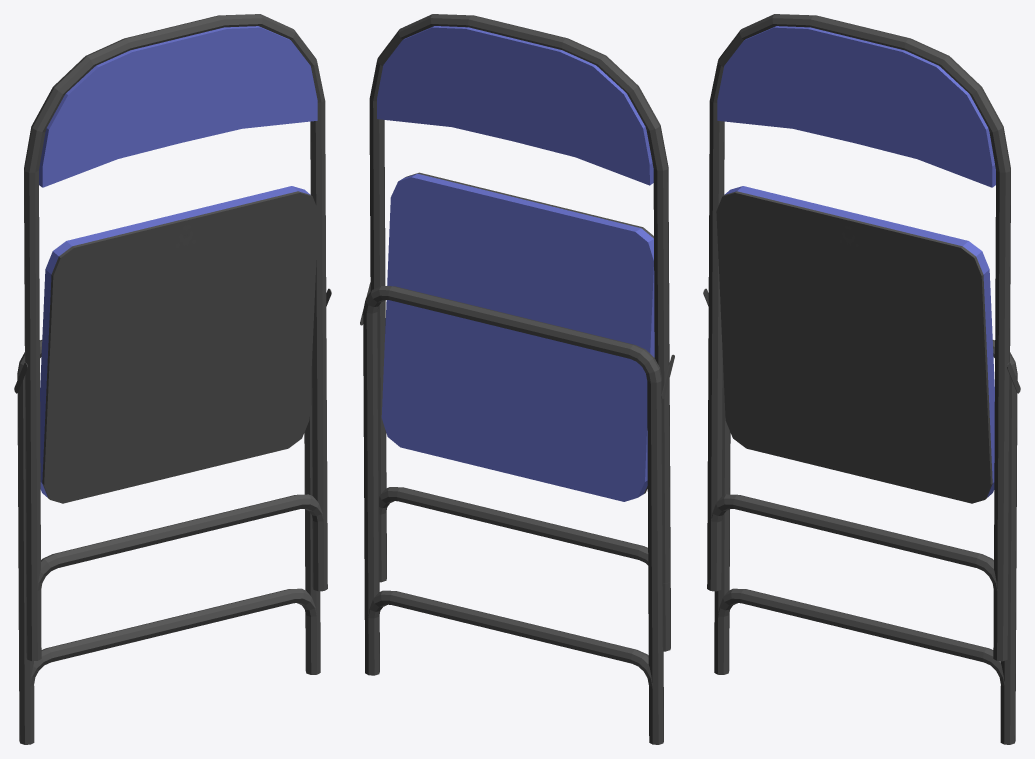
File: chair_0402.fbx
3 renders of one model, left to right at view 1: azimuth 30°, elevation 25°; view 2: azimuth 150°, elevation 25°; view 3: azimuth 330°, elevation 25°, orthographic.
Parts seen in each view (by area): view 1: Object001; view 2: Object001; view 3: Object001.
Boxes of the visible parts, bbox=[...] form: Object001: bbox=[14, 14, 331, 744]; Object001: bbox=[360, 14, 674, 744]; Object001: bbox=[703, 14, 1020, 744].
Size of the model in its own units: 66.36 by 142 by 8.65.
1 material, 1 textured.
